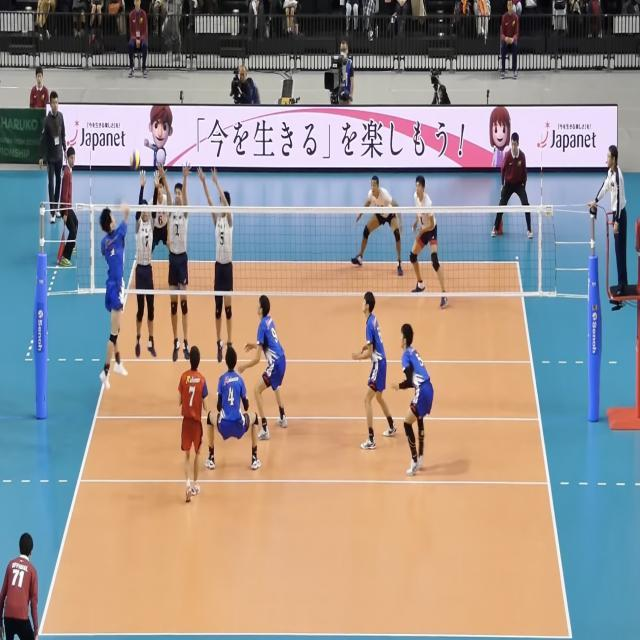spike: (94, 195, 140, 401)
